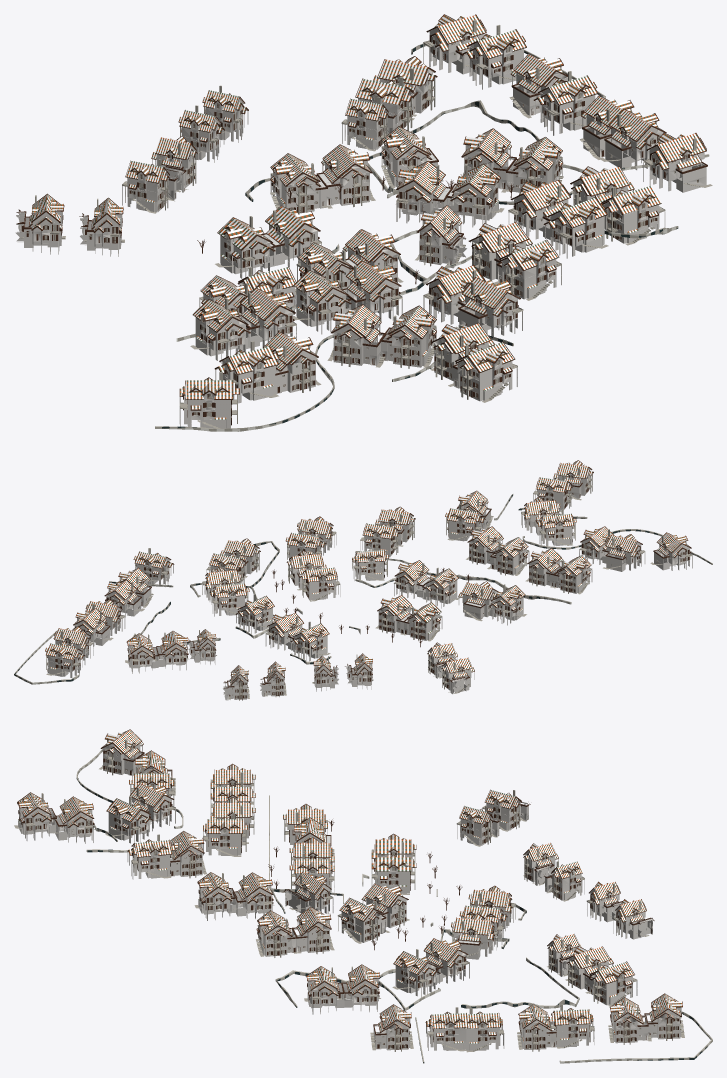
File: context-buildings.glb
The picture shows the model from 3 angles, top to bottom: view 1: azimuth 30°, elevation 25°; view 2: azimuth 150°, elevation 25°; view 3: azimuth 270°, elevation 25°; orthographic projection. The views are drawn at different scales.
Visible parts, largest first — view 1: context-buildings-other-3, context-buildings-tile-2, context-buildings-wood-4, context-buildings-other-1; view 2: context-buildings-other-3, context-buildings-tile-2, context-buildings-wood-4, context-buildings-other-1; view 3: context-buildings-other-3, context-buildings-tile-2, context-buildings-wood-4, context-buildings-other-1.
Boxes of the visible parts, bbox=[...] form: context-buildings-other-3: bbox=[15, 23, 706, 428]; context-buildings-tile-2: bbox=[20, 15, 705, 419]; context-buildings-wood-4: bbox=[16, 14, 707, 425]; context-buildings-other-1: bbox=[20, 19, 712, 431]; context-buildings-other-3: bbox=[47, 468, 692, 700]; context-buildings-tile-2: bbox=[45, 460, 689, 692]; context-buildings-wood-4: bbox=[45, 460, 691, 699]; context-buildings-other-1: bbox=[14, 467, 712, 700]; context-buildings-other-3: bbox=[18, 740, 681, 1050]; context-buildings-tile-2: bbox=[17, 730, 682, 1043]; context-buildings-wood-4: bbox=[17, 729, 682, 1049]; context-buildings-other-1: bbox=[14, 739, 712, 1063].
Bounding box in the file's own units: 253 × 40.49 × 270.
5 materials, 5 textured.
